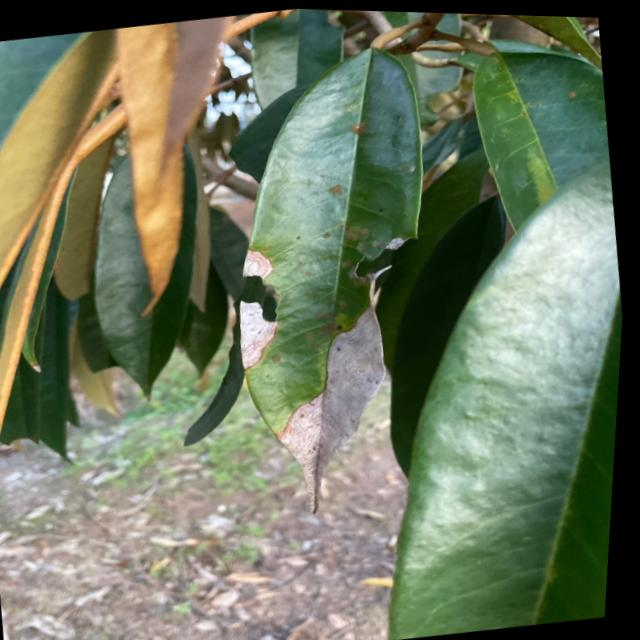Leaf Blight: (244, 47, 423, 509)
